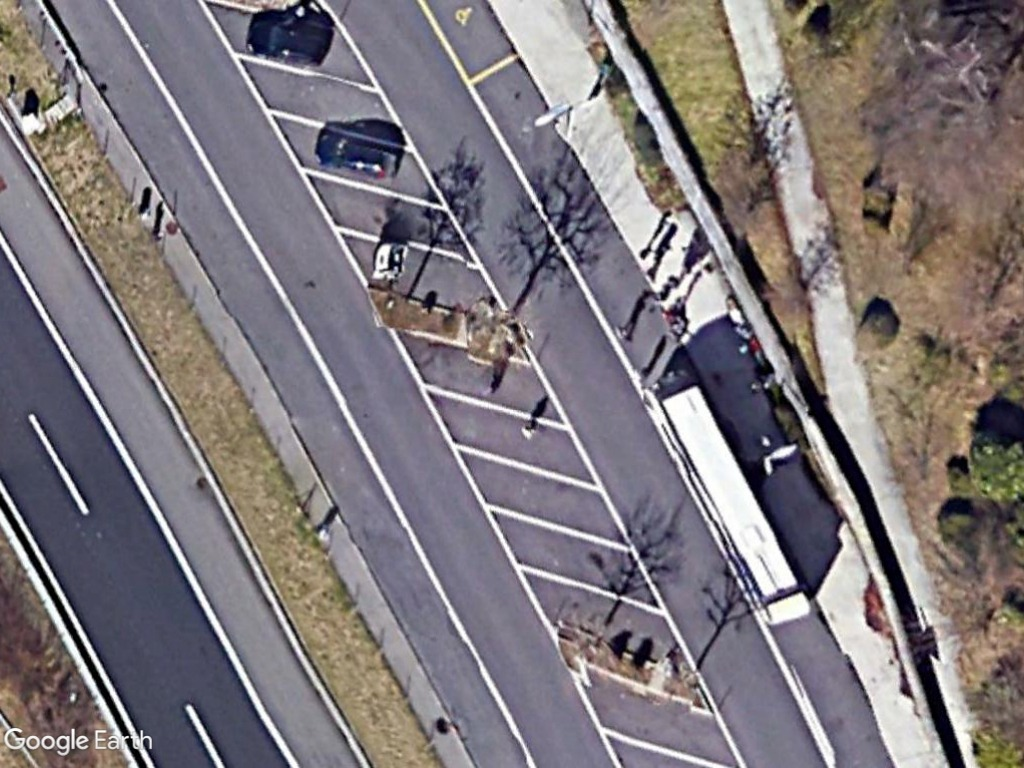car: (313, 128, 405, 186)
longvehicle: (658, 382, 815, 632)
